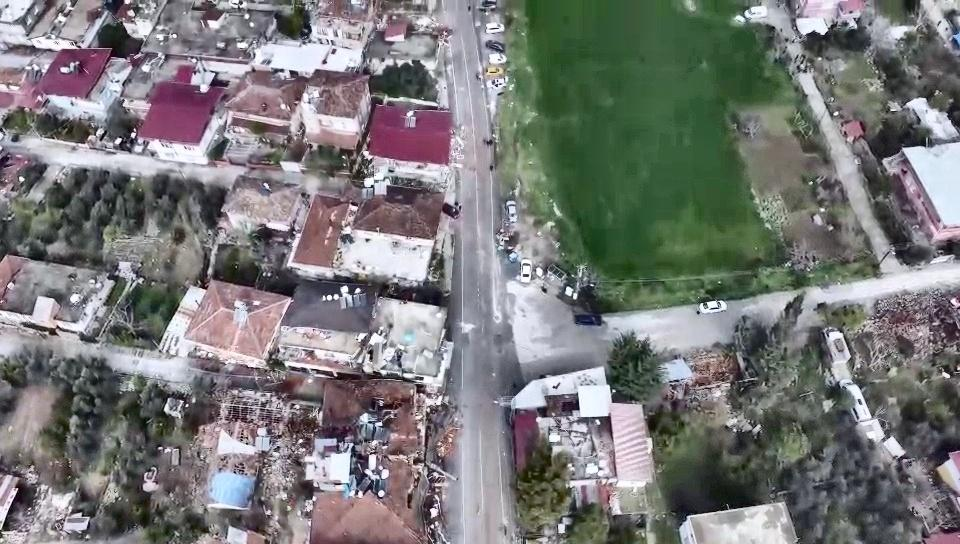kapali: (166, 356, 470, 418)
